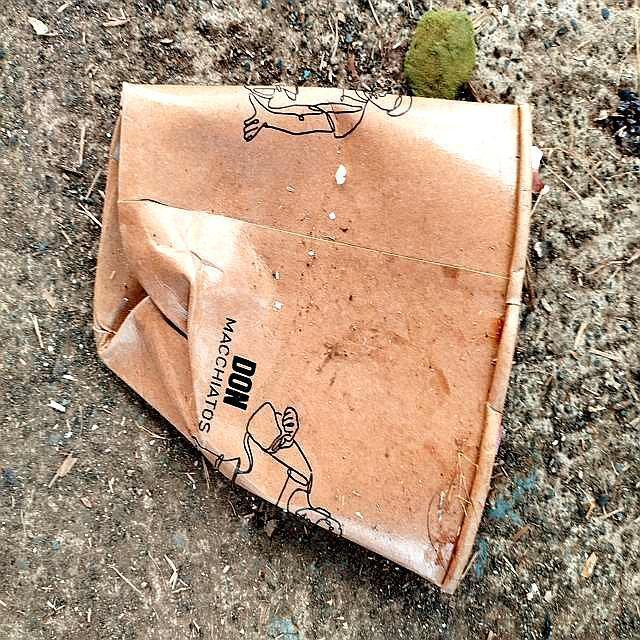Biodegradable: (95, 85, 537, 593)
